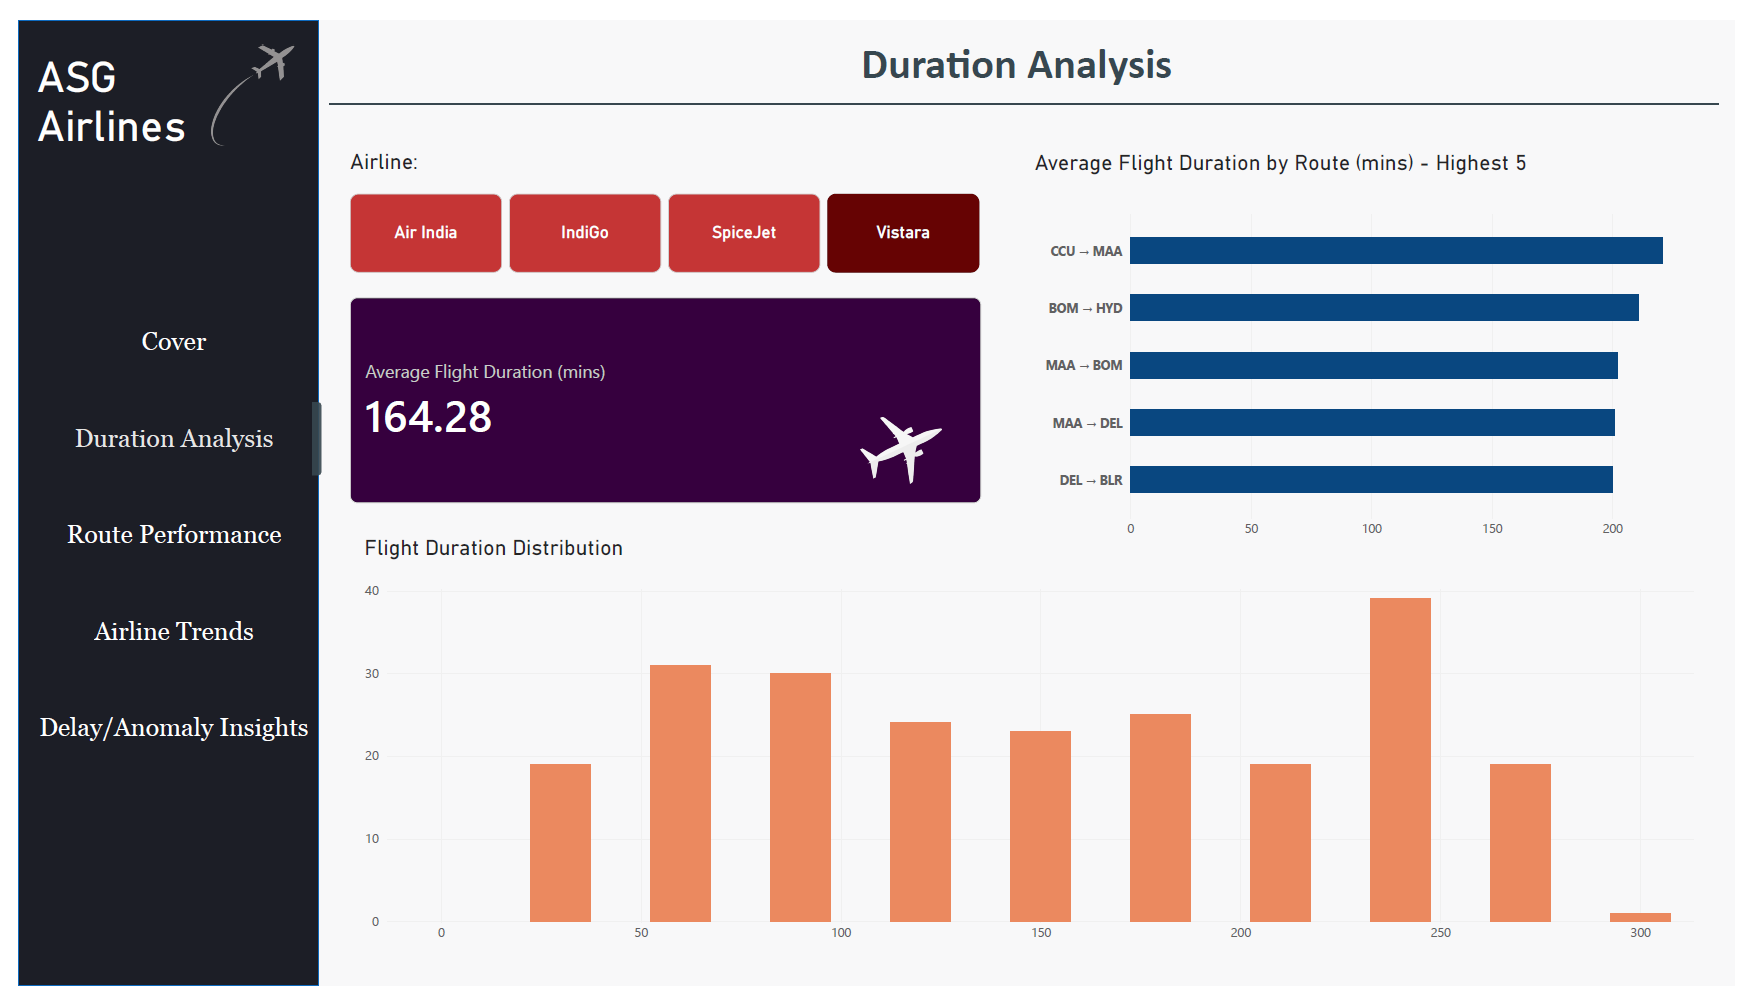

The page's visual inventory and layout, read from the dashboard file:
{"tool":"powerbi","page":{"name":"Duration Analysis","canvas":[1920,1080],"ordinal":1},"visuals":[{"type":"cardVisual","fields":{"Data":["Avg(flights_cleaned.duration_minutes)"]},"box":[371,309.7,706.5,230.6],"z":0},{"type":"clusteredBarChart","fields":{"Y":["Avg(flights_cleaned.duration_minutes)"],"Category":["flights_cleaned.route"]},"box":[1132.3,195.2,787.1,404.8],"z":1000},{"type":"clusteredColumnChart","fields":{"Y":["CountNonNull(flights_cleaned.duration_minutes)"],"Category":["flights_cleaned.duration_minutes (bins)"]},"box":[371,612.9,1519.4,438.7],"z":2000},{"type":"shape","box":[0,0,335.6,1079.7],"z":3000},{"type":"advancedSlicerVisual","fields":{"Values":["flights_cleaned.airline"]},"box":[371,193.5,706.5,88.7],"z":4000},{"type":"textbox","box":[371,143.5,375.8,50],"z":5000},{"type":"textbox","box":[543.5,17.7,1146.8,62.9],"z":6000},{"type":"shape","box":[348.4,80.6,1553.2,24.2],"z":7000},{"type":"textbox","box":[1137.1,145.2,583.9,51.6],"z":8000},{"type":"textbox","box":[387.1,575.8,308.1,48.4],"z":9000},{"type":"pageNavigator","box":[0,309.7,348.4,535.5],"z":10000},{"type":"image","box":[898.4,443.5,179,74.2],"z":11000},{"type":"textbox","box":[21,35.5,204.8,116.1],"z":12000},{"type":"image","box":[193.5,27.4,135.5,112.9],"z":13000}]}

Visuals, with their boxes in screenshot pixels (x1, y1, x2, y2), scaled from the page's 1920x1080 canvas onto the 1755x1005 screenshot:
cardVisual - Avg(flights_cleaned.duration_minutes): (339,288,985,503)
clusteredBarChart - Avg(flights_cleaned.duration_minutes) x flights_cleaned.route: (1035,182,1754,558)
clusteredColumnChart - CountNonNull(flights_cleaned.duration_minutes) x flights_cleaned.duration_minutes (bins): (339,570,1728,979)
shape: (0,0,307,1004)
advancedSlicerVisual - flights_cleaned.airline: (339,180,985,263)
textbox: (339,134,683,180)
textbox: (497,16,1545,75)
shape: (318,75,1738,98)
textbox: (1039,135,1573,183)
textbox: (354,536,635,581)
pageNavigator: (0,288,318,787)
image: (821,413,985,482)
textbox: (19,33,206,141)
image: (177,25,301,131)
